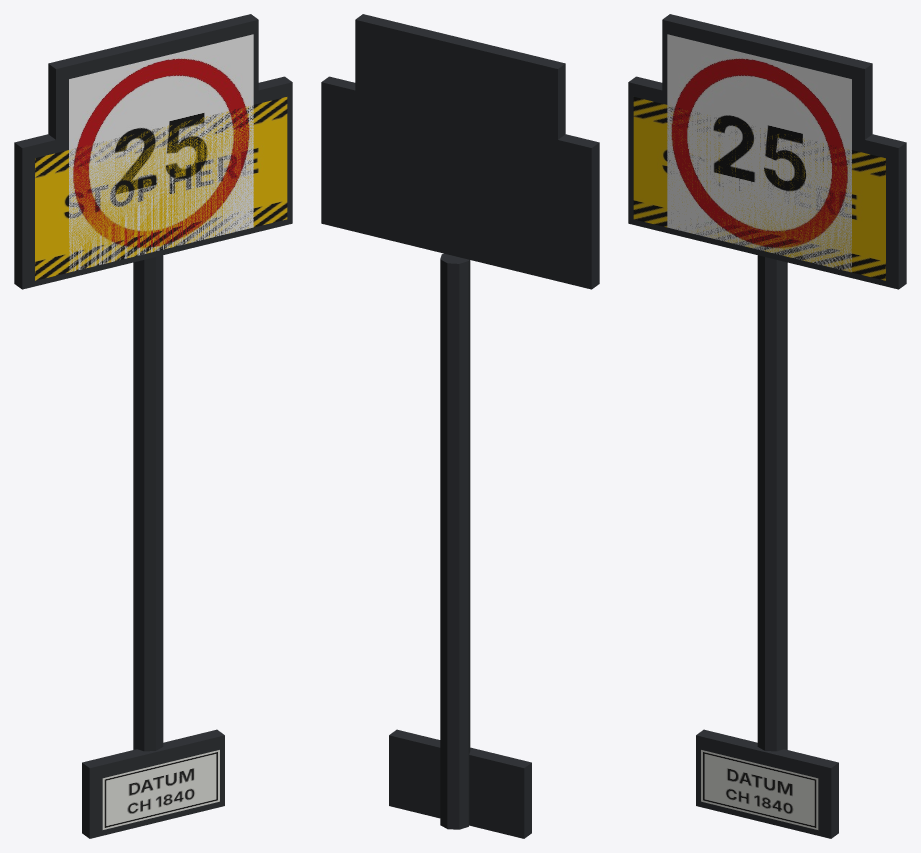
Rendered from signal_boards.glb.
The picture shows the model from 3 angles, left to right: view 1: azimuth 30°, elevation 25°; view 2: azimuth 150°, elevation 25°; view 3: azimuth 330°, elevation 25°; orthographic projection.
Visible parts, largest first — view 1: board_speed, board_station_stop, plate_datum; view 2: board_speed, board_station_stop, plate_datum; view 3: board_speed, board_station_stop, plate_datum.
Part boxes in pixels (x1,y1,x2,y2): board_speed: (48,14,258,751); board_station_stop: (14,76,292,289); plate_datum: (82,729,224,838); board_speed: (355,14,565,829); board_station_stop: (321,76,599,289); plate_datum: (389,729,531,838); board_speed: (662,14,872,751); board_station_stop: (628,76,906,289); plate_datum: (696,729,838,838).
Size of the model in its own units: 0.6 by 1.65 by 0.08.
Materials: 5 (4 with a texture image).
